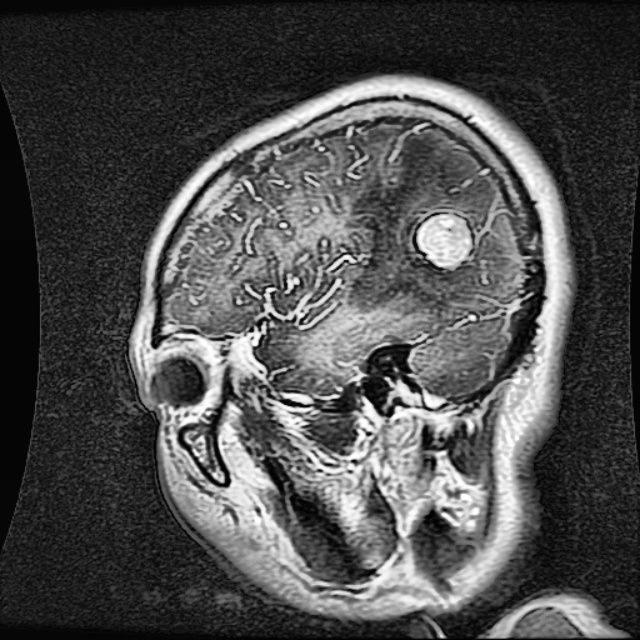Meningioma: (414, 215, 472, 267)
